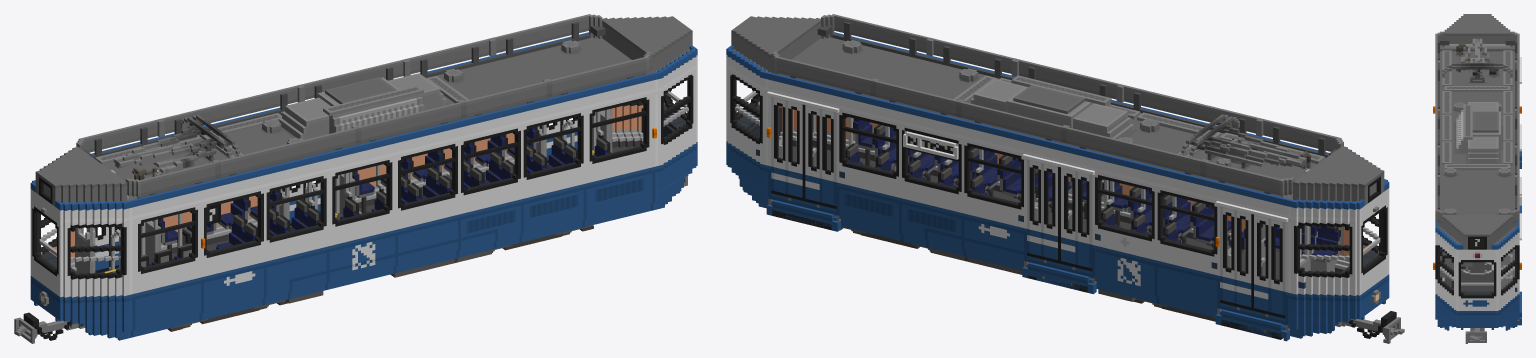
Rendered from tram20003pony.obj.
3 renders of one model, left to right at view 1: azimuth 30°, elevation 25°; view 2: azimuth 150°, elevation 25°; view 3: azimuth 270°, elevation 25°, orthographic. The views are drawn at different scales.
Parts seen in each view (by area): view 1: FRAME, INTERIOR, WIDGET_23_TL_1.9375_Y_CG_panto1_LABEL_Pantograph, WIDGET_25_TL_1.9375_Y_CG_panto1_LABEL_Pantograph, DOOR_21_INTERIOR; view 2: FRAME, INTERIOR, WIDGET_11_CG_dm, WIDGET_1_CG_df, DOOR_11_CG_dm, DOOR_1_CG_df, DOOR_42_EXTERNAL_CG_dr_TL_-0.625_X, DOOR_44_CG_dr, DOOR_12_EXTERNAL_CG_dm_TL_-0.625_X, DOOR_3_EXTERNAL_CG_df_TL_0.625_X, DOOR_14_CG_dm, DOOR_2_EXTERNAL_CG_df_TL_-0.625_X (+7 smaller); view 3: FRAME, INTERIOR, WIDGET_25_TL_1.9375_Y_CG_panto1_LABEL_Pantograph, WIDGET_23_TL_1.9375_Y_CG_panto1_LABEL_Pantograph, displays_INTERIOR, WIDGET_22_CG_panto1_LABEL_Pantograph.
Part boxes in pixels (x1,y1,x2,y2): FRAME: [14, 14, 697, 343]; INTERIOR: [37, 80, 689, 275]; WIDGET_23_TL_1.9375_Y_CG_panto1_LABEL_Pantograph: [113, 125, 216, 166]; WIDGET_25_TL_1.9375_Y_CG_panto1_LABEL_Pantograph: [181, 115, 241, 158]; DOOR_21_INTERIOR: [75, 227, 95, 273]; FRAME: [726, 14, 1404, 343]; INTERIOR: [733, 80, 1383, 279]; WIDGET_11_CG_dm: [1027, 255, 1092, 290]; WIDGET_1_CG_df: [1220, 303, 1285, 337]; DOOR_11_CG_dm: [1075, 171, 1089, 270]; DOOR_1_CG_df: [1268, 218, 1282, 317]; DOOR_42_EXTERNAL_CG_dr_TL_-0.625_X: [805, 105, 819, 204]; DOOR_44_CG_dr: [774, 97, 788, 197]; DOOR_12_EXTERNAL_CG_dm_TL_-0.625_X: [1061, 167, 1075, 267]; DOOR_3_EXTERNAL_CG_df_TL_0.625_X: [1237, 210, 1251, 310]; DOOR_14_CG_dm: [1029, 160, 1043, 259]; DOOR_2_EXTERNAL_CG_df_TL_-0.625_X: [1254, 214, 1268, 314]; FRAME: [1433, 14, 1521, 343]; INTERIOR: [1437, 248, 1517, 295]; WIDGET_25_TL_1.9375_Y_CG_panto1_LABEL_Pantograph: [1442, 63, 1512, 77]; WIDGET_23_TL_1.9375_Y_CG_panto1_LABEL_Pantograph: [1461, 38, 1493, 69]; displays_INTERIOR: [1470, 239, 1484, 246]; WIDGET_22_CG_panto1_LABEL_Pantograph: [1475, 38, 1477, 74].
Bounding box in the file's own units: 14.62 × 3.75 × 2.38.
1 material, 1 textured.
